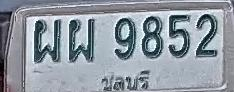2: (195, 13, 218, 57)
5: (169, 14, 190, 58)
8: (142, 15, 162, 58)
9: (114, 17, 136, 60)
A28: (34, 19, 62, 63), (68, 18, 95, 62)
CBI: (97, 68, 155, 92)
